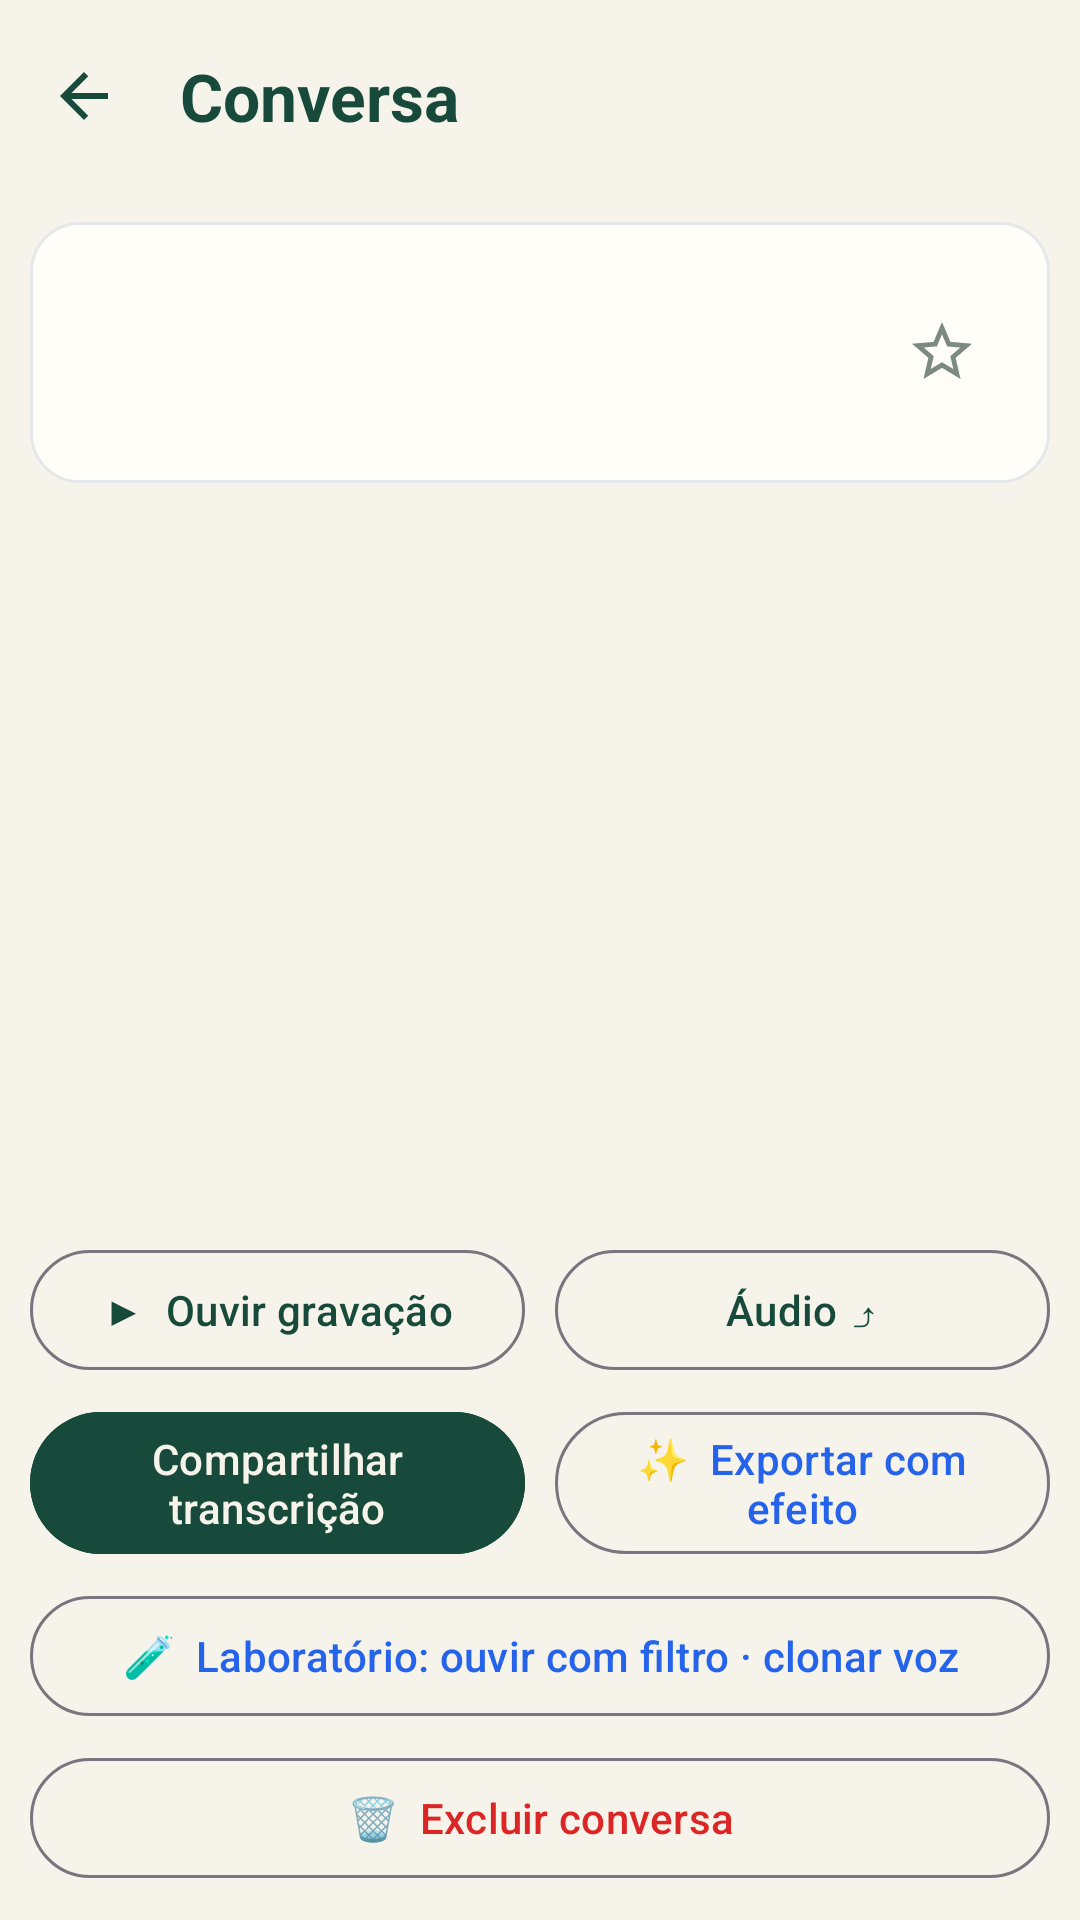

Locate icon controls on the screen. Image size 1080px x 1920px, boxes as (x1=x1, y1=y1, x2=x2, y2=y2).
Favorito: (x1=913, y1=323, x2=971, y2=379)
